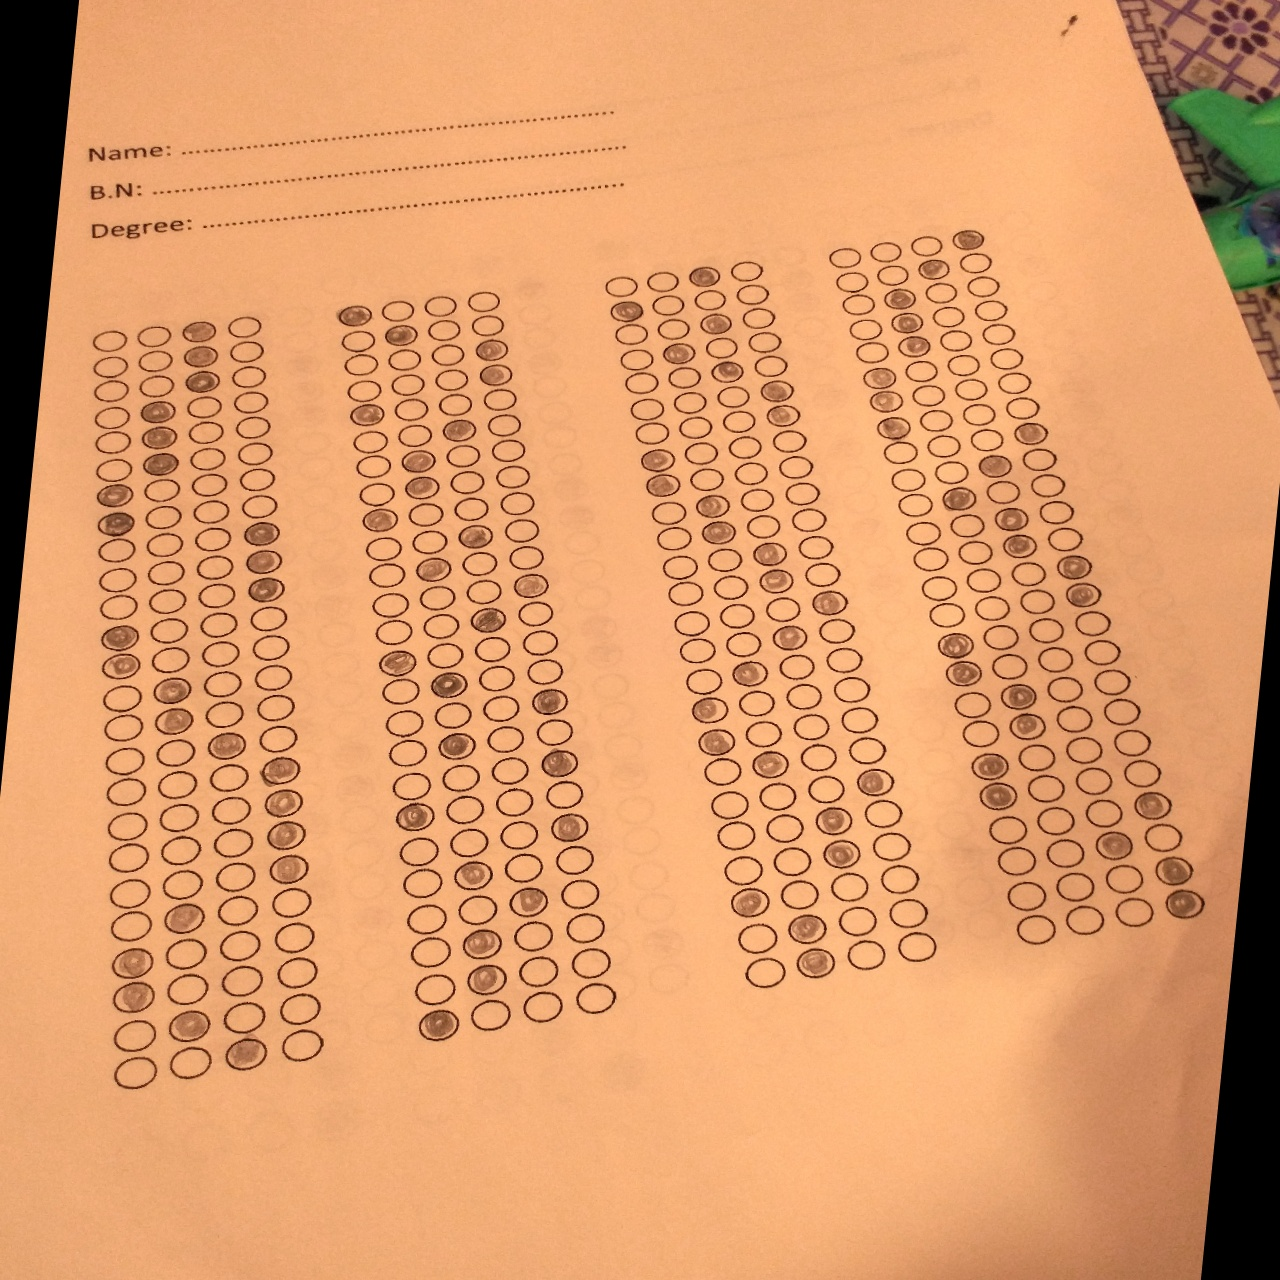not-c: (277, 1027, 325, 1064), (271, 919, 319, 956), (566, 944, 614, 981), (842, 938, 890, 975), (219, 1000, 268, 1036), (213, 893, 263, 930), (571, 981, 620, 1017), (275, 990, 324, 1027), (164, 972, 212, 1008), (267, 885, 315, 921), (518, 988, 566, 1024), (884, 896, 932, 932), (161, 937, 210, 972), (113, 1054, 159, 1090), (273, 955, 321, 990), (215, 928, 263, 964), (467, 998, 515, 1033), (742, 955, 790, 990), (734, 921, 782, 956), (893, 930, 941, 965), (111, 1017, 158, 1053), (515, 953, 561, 988), (165, 1046, 213, 1080), (218, 964, 266, 998), (205, 761, 251, 796), (1061, 903, 1107, 938), (108, 908, 154, 942), (159, 869, 205, 903), (211, 825, 257, 859), (156, 801, 202, 835), (209, 794, 254, 828), (1032, 803, 1077, 837), (1053, 869, 1098, 903), (1141, 821, 1186, 855), (107, 877, 154, 910), (154, 769, 200, 802), (876, 863, 922, 896), (707, 788, 754, 821), (213, 859, 258, 893), (158, 835, 203, 869), (256, 721, 300, 755), (1014, 913, 1058, 947), (105, 842, 151, 874), (154, 735, 199, 768), (200, 697, 246, 730), (754, 781, 799, 813), (803, 772, 849, 805), (983, 813, 1029, 846), (252, 692, 299, 723), (721, 855, 768, 886), (869, 830, 915, 862), (860, 798, 907, 830), (713, 819, 760, 851), (843, 734, 890, 765), (835, 905, 881, 937), (552, 844, 595, 878), (1112, 896, 1156, 930), (442, 794, 486, 826), (542, 779, 586, 812), (496, 818, 540, 851), (401, 867, 445, 900), (455, 893, 499, 926), (502, 851, 546, 884), (408, 937, 452, 969), (413, 973, 457, 1006), (701, 755, 745, 788), (994, 845, 1039, 878), (1043, 837, 1088, 870), (1101, 863, 1145, 896), (778, 879, 824, 911), (762, 813, 808, 845), (795, 741, 840, 772), (396, 836, 440, 869), (512, 919, 556, 952), (1005, 879, 1048, 912), (105, 810, 150, 842), (447, 828, 491, 859), (558, 878, 602, 910), (563, 913, 607, 945), (828, 871, 872, 903), (770, 846, 815, 878), (406, 903, 448, 935), (493, 787, 537, 818), (148, 644, 192, 674), (101, 713, 145, 743), (103, 744, 148, 775), (103, 777, 148, 808), (519, 627, 563, 658), (789, 712, 832, 742), (837, 704, 880, 735), (682, 667, 726, 697), (775, 652, 818, 682), (722, 629, 765, 660), (522, 658, 566, 687), (384, 738, 429, 768), (1121, 758, 1165, 788), (1082, 798, 1126, 828), (248, 633, 291, 663), (418, 611, 461, 641), (383, 708, 425, 738), (474, 663, 516, 694), (479, 694, 522, 724), (742, 719, 784, 749), (831, 674, 873, 704), (823, 645, 865, 675), (1015, 742, 1057, 772), (197, 610, 240, 639), (200, 669, 244, 699), (101, 685, 144, 714), (372, 618, 415, 647), (430, 701, 474, 730), (532, 719, 576, 748), (488, 757, 531, 787), (1071, 765, 1115, 795), (95, 566, 139, 594), (251, 663, 295, 692), (736, 688, 777, 719), (1091, 666, 1132, 696), (147, 587, 189, 617), (199, 640, 241, 669), (513, 600, 556, 629), (472, 634, 515, 663), (424, 641, 467, 670), (390, 772, 433, 802), (440, 763, 482, 792), (783, 682, 825, 712), (670, 608, 713, 638), (926, 600, 968, 629), (980, 622, 1022, 652), (988, 652, 1030, 681), (959, 719, 1001, 748), (1043, 675, 1085, 704), (1053, 704, 1095, 734), (1024, 774, 1067, 803), (380, 678, 423, 706), (483, 724, 526, 753), (795, 533, 838, 561), (1081, 639, 1124, 667), (1063, 735, 1103, 765), (678, 636, 719, 666), (659, 553, 700, 583), (1112, 728, 1153, 757), (195, 581, 237, 610), (247, 605, 290, 633), (816, 617, 858, 645), (710, 574, 753, 602), (788, 506, 830, 535), (1034, 645, 1076, 673), (951, 692, 993, 720), (147, 617, 190, 644), (366, 561, 409, 588), (648, 499, 692, 526), (407, 529, 450, 556), (1101, 697, 1141, 727), (98, 593, 139, 621), (665, 580, 706, 608), (704, 546, 745, 574), (654, 524, 695, 552), (1026, 617, 1067, 645), (143, 504, 185, 531), (96, 536, 138, 563), (191, 526, 233, 553), (496, 490, 538, 517), (505, 543, 547, 570), (715, 602, 757, 629), (801, 561, 843, 588), (908, 546, 951, 573), (188, 444, 227, 472), (731, 459, 771, 488), (682, 438, 722, 467), (93, 457, 134, 484), (189, 471, 230, 498), (145, 559, 186, 586), (365, 536, 406, 563), (451, 496, 492, 523), (458, 550, 499, 577), (462, 579, 503, 606), (762, 595, 803, 622), (744, 513, 785, 540), (724, 434, 765, 461), (918, 574, 959, 601), (971, 595, 1012, 622), (1073, 610, 1114, 636), (141, 477, 183, 503), (403, 502, 445, 527), (499, 518, 542, 544), (417, 585, 459, 611), (737, 486, 776, 515), (687, 465, 726, 493), (782, 481, 822, 508), (776, 454, 816, 481), (770, 428, 810, 455), (1046, 526, 1085, 553), (955, 539, 995, 566), (225, 339, 266, 365), (192, 499, 233, 525), (144, 532, 185, 558), (195, 554, 236, 580), (369, 592, 410, 618), (931, 459, 972, 485), (964, 567, 1005, 593), (1006, 560, 1047, 586), (1016, 588, 1057, 614), (237, 467, 275, 493), (956, 248, 995, 275), (915, 406, 954, 433), (924, 433, 962, 459), (229, 365, 268, 390), (234, 441, 274, 467), (239, 493, 279, 519), (134, 324, 173, 349), (90, 354, 130, 380), (91, 406, 131, 431), (186, 420, 226, 445), (896, 492, 935, 518), (903, 520, 942, 546), (947, 513, 987, 539), (728, 258, 765, 285), (930, 304, 967, 331), (1020, 447, 1057, 474), (981, 481, 1022, 505), (234, 414, 273, 440), (135, 348, 173, 374), (91, 379, 130, 404), (350, 429, 389, 455), (443, 443, 482, 469), (489, 437, 527, 463), (448, 469, 486, 495), (670, 389, 709, 415), (944, 352, 982, 377), (972, 298, 1010, 324), (888, 467, 927, 492), (231, 389, 271, 414), (377, 299, 417, 324), (421, 293, 461, 318), (1027, 474, 1067, 498), (355, 452, 392, 479), (425, 316, 463, 342), (485, 411, 523, 437), (396, 423, 434, 449), (358, 482, 395, 508), (721, 408, 758, 434), (666, 365, 703, 390), (740, 306, 777, 332), (847, 316, 885, 342), (903, 358, 940, 383), (224, 314, 263, 339), (137, 374, 176, 399), (185, 395, 224, 420), (339, 328, 377, 353), (341, 353, 380, 377), (435, 392, 474, 416), (481, 387, 519, 411), (622, 370, 661, 395), (745, 331, 784, 355), (979, 321, 1017, 346), (951, 377, 989, 402), (1037, 501, 1076, 525), (389, 372, 425, 397), (634, 420, 670, 445), (628, 396, 665, 422), (619, 347, 655, 373), (702, 334, 738, 360), (995, 370, 1032, 396), (881, 440, 918, 465), (968, 427, 1005, 452), (93, 430, 132, 454), (433, 367, 470, 392), (345, 377, 382, 402), (493, 465, 531, 490), (675, 415, 713, 440), (715, 384, 753, 409), (654, 316, 692, 341), (692, 288, 729, 313), (908, 233, 946, 258), (938, 328, 975, 353), (965, 274, 1002, 299), (922, 281, 960, 306), (910, 383, 947, 408), (1005, 396, 1042, 421), (960, 402, 998, 427), (90, 329, 129, 353), (468, 314, 506, 338), (392, 397, 430, 421), (753, 353, 788, 379), (613, 322, 649, 347), (735, 282, 771, 307), (826, 245, 863, 270), (835, 270, 871, 294), (853, 340, 890, 365), (988, 347, 1024, 372), (386, 348, 423, 372), (429, 343, 467, 367), (644, 270, 681, 293), (869, 239, 904, 264), (874, 263, 910, 287), (649, 293, 686, 316), (463, 290, 501, 312), (602, 275, 639, 298), (840, 293, 874, 316)
taken-c: (110, 945, 158, 981), (111, 980, 159, 1016), (416, 1007, 464, 1043), (503, 884, 551, 920), (450, 857, 498, 893), (547, 809, 595, 845), (794, 945, 842, 981), (726, 885, 774, 921), (726, 884, 774, 920), (159, 901, 207, 937), (165, 1008, 213, 1043), (223, 1037, 271, 1073), (458, 926, 506, 961), (785, 913, 833, 948), (810, 805, 858, 840), (749, 749, 797, 784), (1160, 887, 1208, 922), (818, 837, 866, 872), (852, 765, 901, 799), (464, 962, 511, 998), (390, 801, 438, 835), (1129, 788, 1175, 823), (1150, 855, 1196, 888), (767, 621, 813, 654), (729, 658, 774, 692), (975, 779, 1020, 813), (1005, 712, 1049, 745), (941, 658, 986, 692), (1092, 828, 1137, 862), (687, 695, 733, 728), (996, 681, 1042, 714), (425, 670, 472, 702), (151, 706, 196, 738), (260, 754, 305, 787), (695, 727, 740, 760), (968, 750, 1013, 783), (264, 821, 309, 852), (527, 687, 573, 719), (508, 571, 553, 602), (410, 556, 456, 587), (536, 748, 583, 778), (150, 675, 195, 707), (261, 788, 306, 819), (267, 855, 312, 886), (806, 588, 851, 620), (433, 731, 478, 762), (374, 648, 420, 679), (451, 520, 495, 552), (935, 629, 979, 661), (469, 606, 513, 636), (356, 505, 401, 536), (1053, 554, 1098, 584), (937, 485, 982, 515), (205, 731, 248, 762), (998, 532, 1042, 561), (972, 452, 1016, 482), (98, 651, 141, 681), (95, 510, 138, 539), (239, 519, 282, 549), (244, 547, 287, 577), (100, 622, 143, 652), (1062, 581, 1105, 610), (990, 506, 1034, 535), (333, 301, 374, 331), (874, 413, 915, 442), (867, 388, 908, 417), (245, 576, 287, 604), (470, 338, 512, 366), (137, 399, 181, 425), (1012, 420, 1051, 449), (858, 365, 898, 394), (400, 474, 441, 502), (397, 448, 438, 476), (438, 417, 479, 445), (381, 322, 422, 350), (750, 540, 791, 568), (756, 567, 797, 595), (181, 368, 223, 395), (95, 481, 137, 508), (476, 361, 516, 389), (346, 401, 386, 429), (894, 334, 934, 362), (139, 451, 181, 478), (887, 309, 926, 338), (914, 256, 953, 284), (695, 309, 734, 338), (659, 340, 697, 368), (709, 359, 748, 387), (763, 402, 802, 430), (639, 445, 678, 474), (644, 471, 682, 499), (700, 518, 738, 546), (880, 286, 920, 313), (686, 263, 726, 290), (139, 424, 181, 450), (608, 298, 646, 326), (948, 227, 987, 254), (757, 377, 796, 404), (694, 492, 733, 519), (179, 319, 222, 343), (181, 345, 222, 369)
